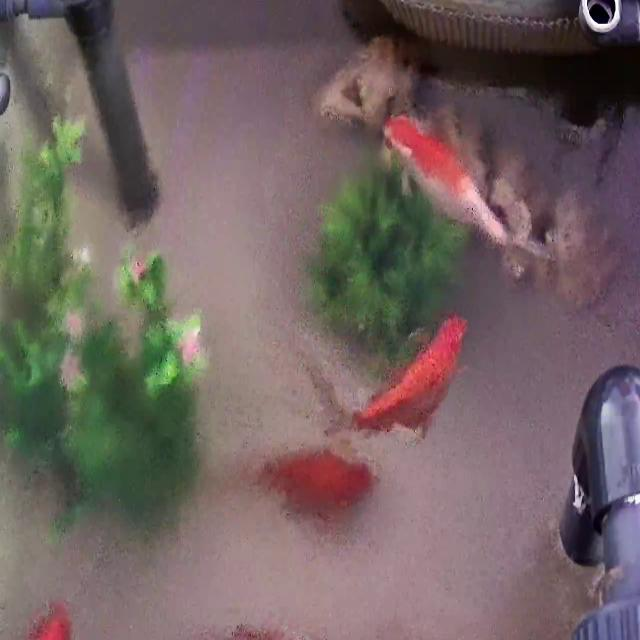fish: (386, 110, 524, 264), (357, 313, 463, 437), (254, 447, 367, 523)
